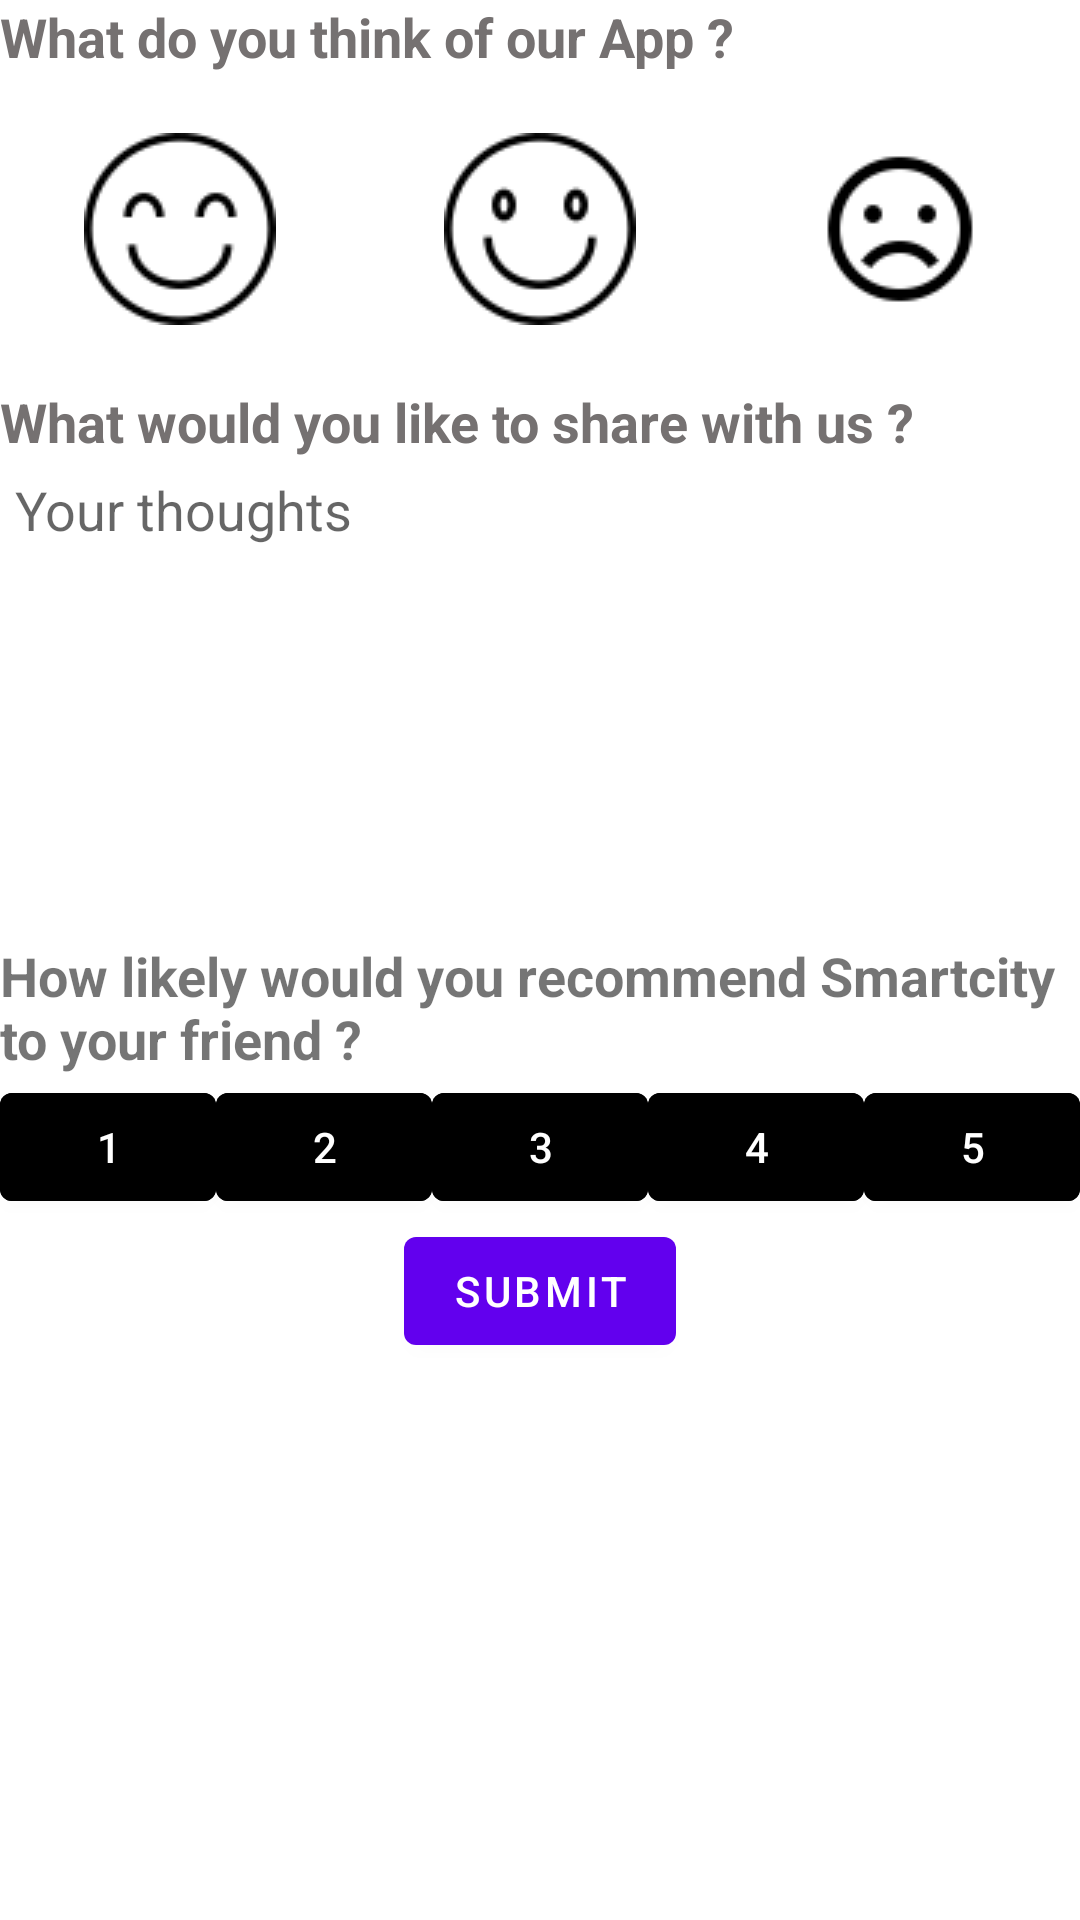

Screen size 1080×1920. Icon name, then its box in pixels as (x1, y1, x2, y2):
sad: (827, 156, 973, 302)
smile: (84, 133, 276, 325), (444, 133, 636, 325)
